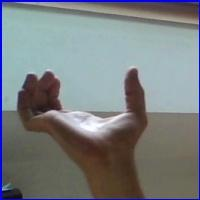B: (7, 57, 165, 174)
